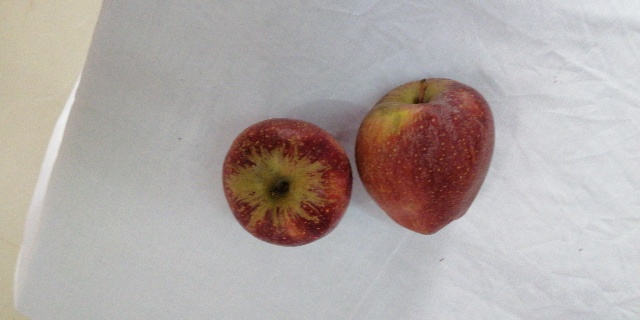apple_kashmir: (352, 78, 503, 236), (221, 120, 359, 248)
